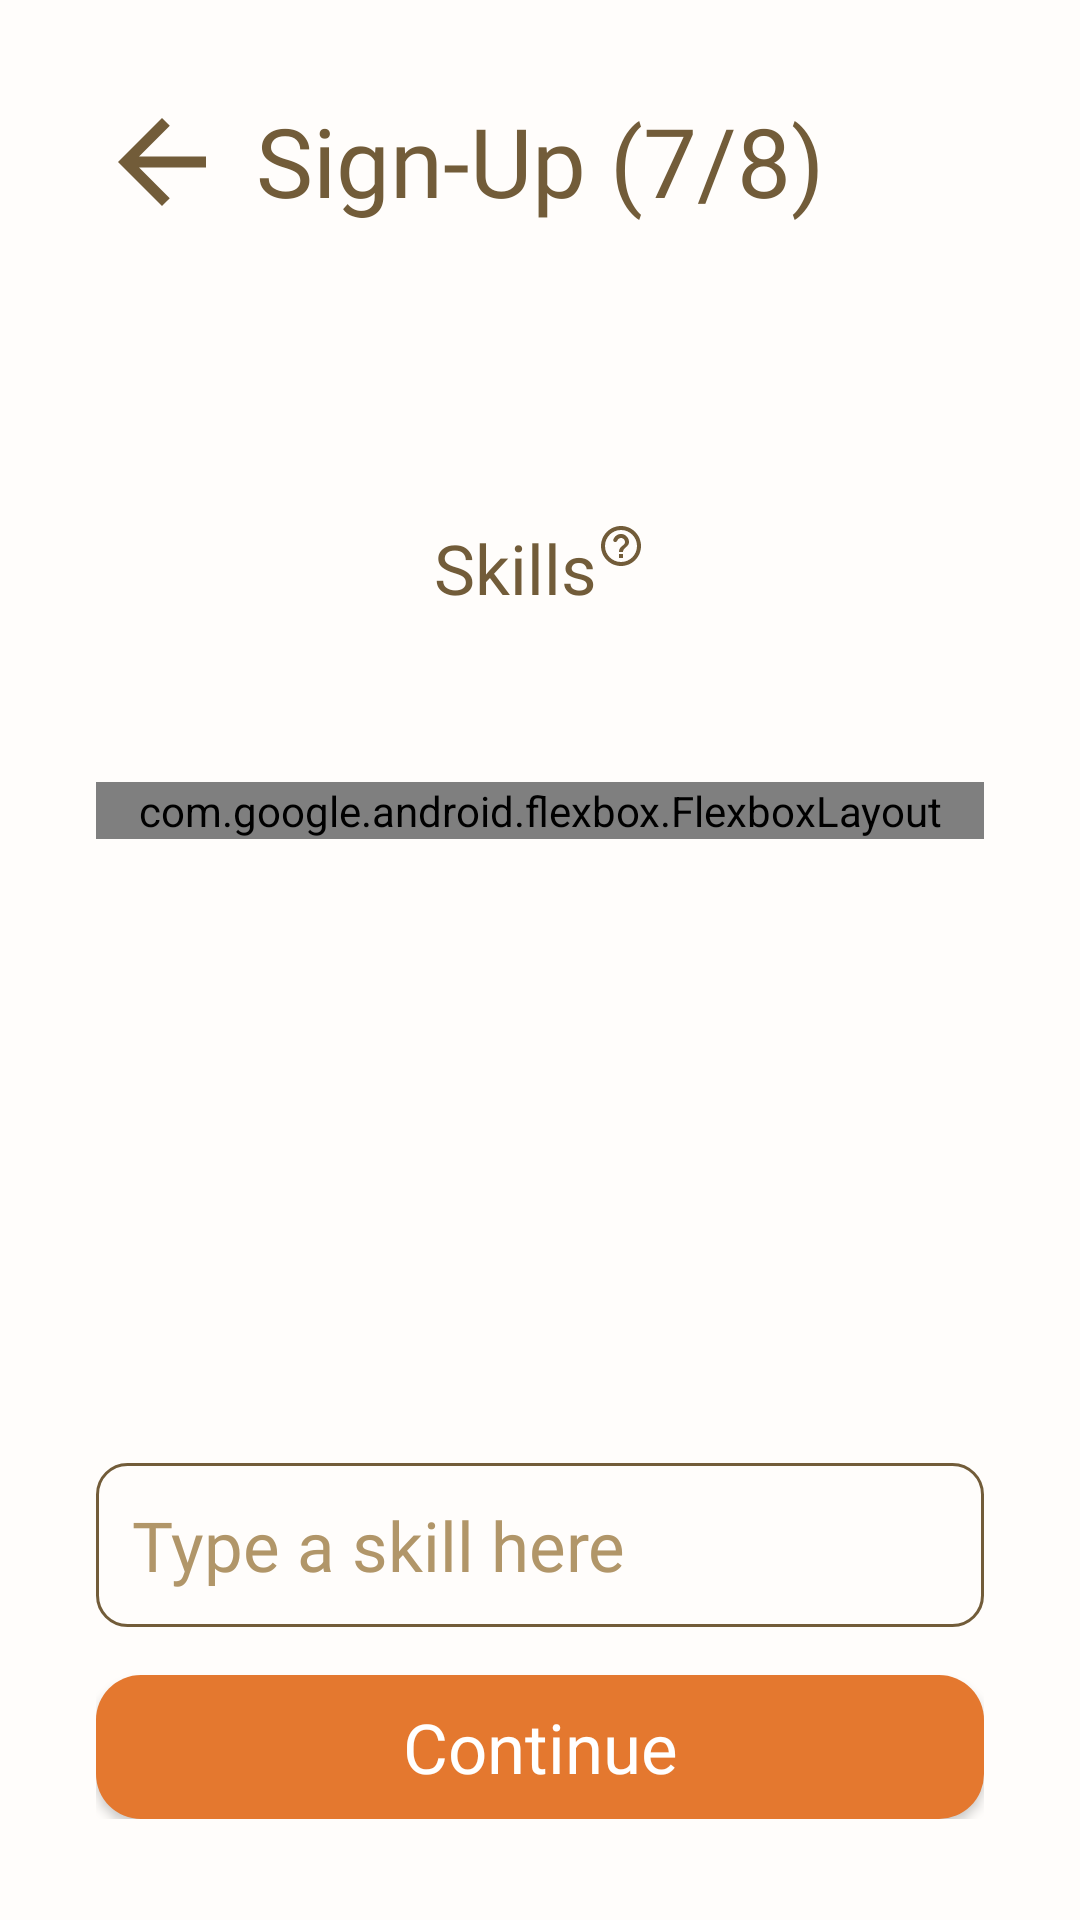

Named icons in this screenshot (1080 x 1920) and their bounding boxes, [x1, y1, x2, y2]:
first questionnaire arrow back: [118, 118, 206, 206]
help: [601, 526, 641, 566]
